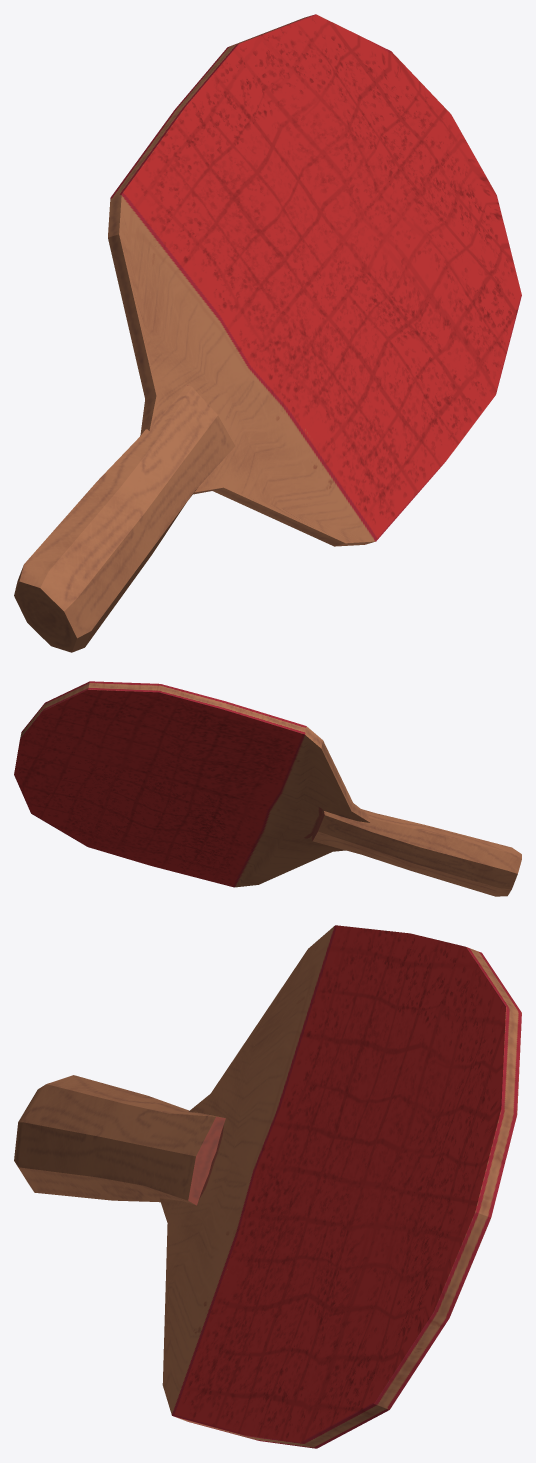
Rendered from raquete.dae.
3 views of the same model, one above another, from view 1: azimuth 30°, elevation 25°; view 2: azimuth 150°, elevation 25°; view 3: azimuth 270°, elevation 25° (orthographic). The views are drawn at different scales.
Visible parts, largest first — view 1: Raquete_Low_03; view 2: Raquete_Low_03; view 3: Raquete_Low_03.
Part boxes in pixels (left/top/right/bottom): Raquete_Low_03: left=14, top=14, right=521, bottom=652; Raquete_Low_03: left=14, top=681, right=521, bottom=896; Raquete_Low_03: left=14, top=925, right=521, bottom=1448.
Bounding box in the file's own units: 1.03 × 0.6319 × 0.6158.
